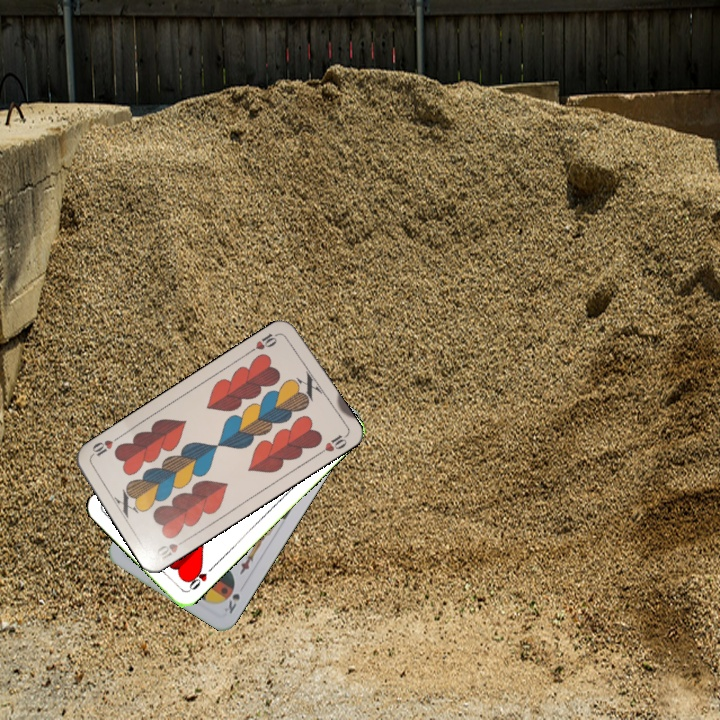H10: (153, 535, 190, 565), (245, 329, 282, 355)
HO: (183, 562, 217, 594)
SK: (221, 582, 242, 616)
